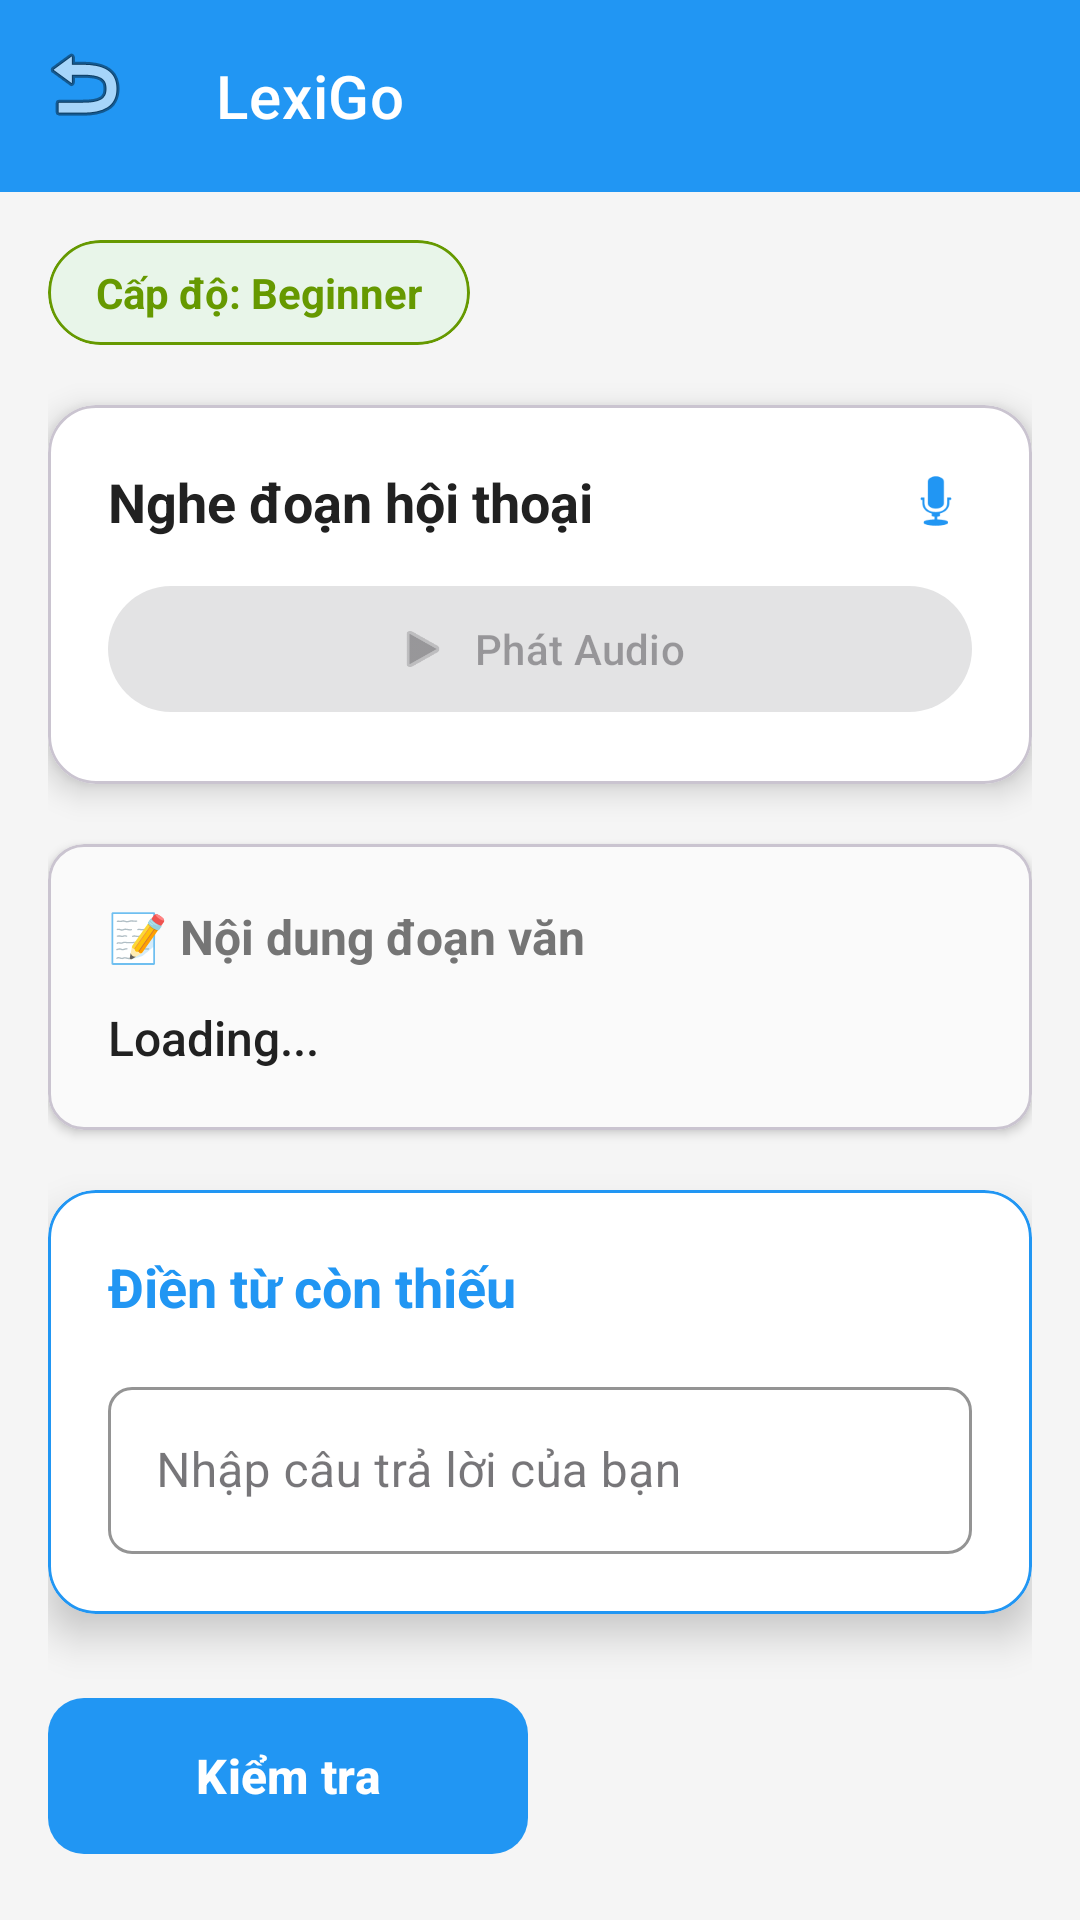

Icon bounding boxes for this 1080*1920 phone screenshot, format detection(x1, y1, x2, y2):
speak now: detection(920, 476, 952, 526)
